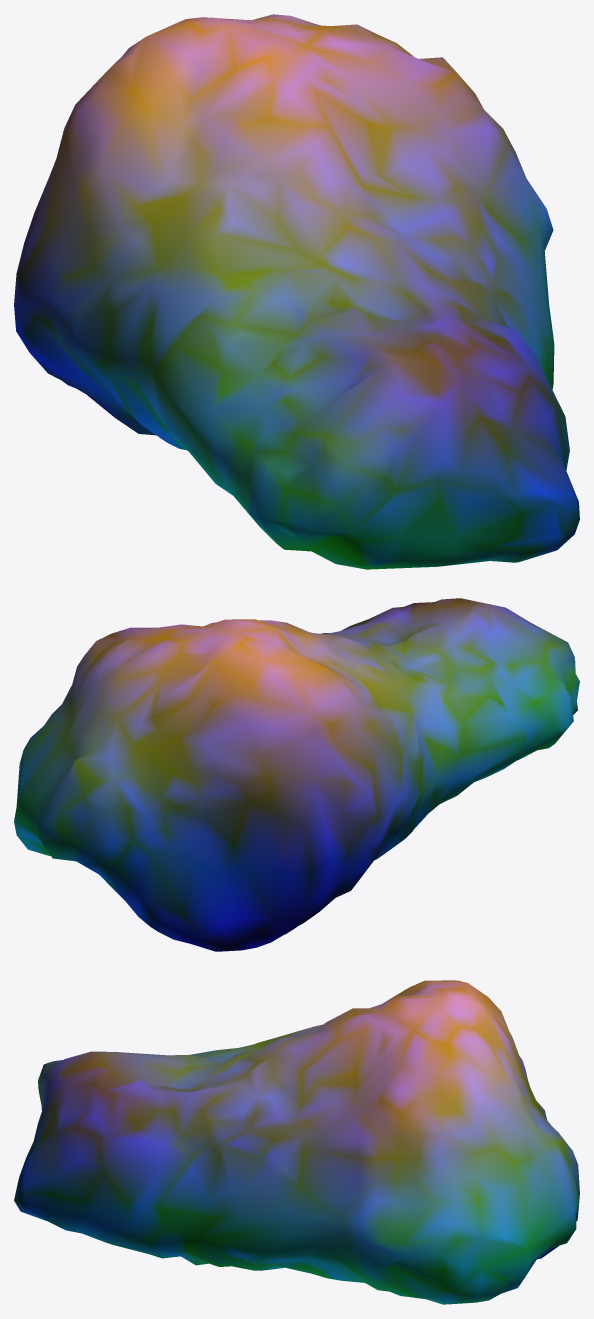
The model's file is SM_LargeRock.fbx.
3 renders of one model, top to bottom at view 1: azimuth 30°, elevation 25°; view 2: azimuth 150°, elevation 25°; view 3: azimuth 270°, elevation 25°, orthographic. The views are drawn at different scales.
Parts seen in each view (by area): view 1: SM_LargeRock; view 2: SM_LargeRock; view 3: SM_LargeRock.
Boxes of the visible parts, x1,y1,x2,y2 form: SM_LargeRock: [14, 14, 579, 569]; SM_LargeRock: [14, 598, 579, 951]; SM_LargeRock: [14, 980, 579, 1304].
Size of the model in its own units: 11.37 by 8.6 by 16.23.
